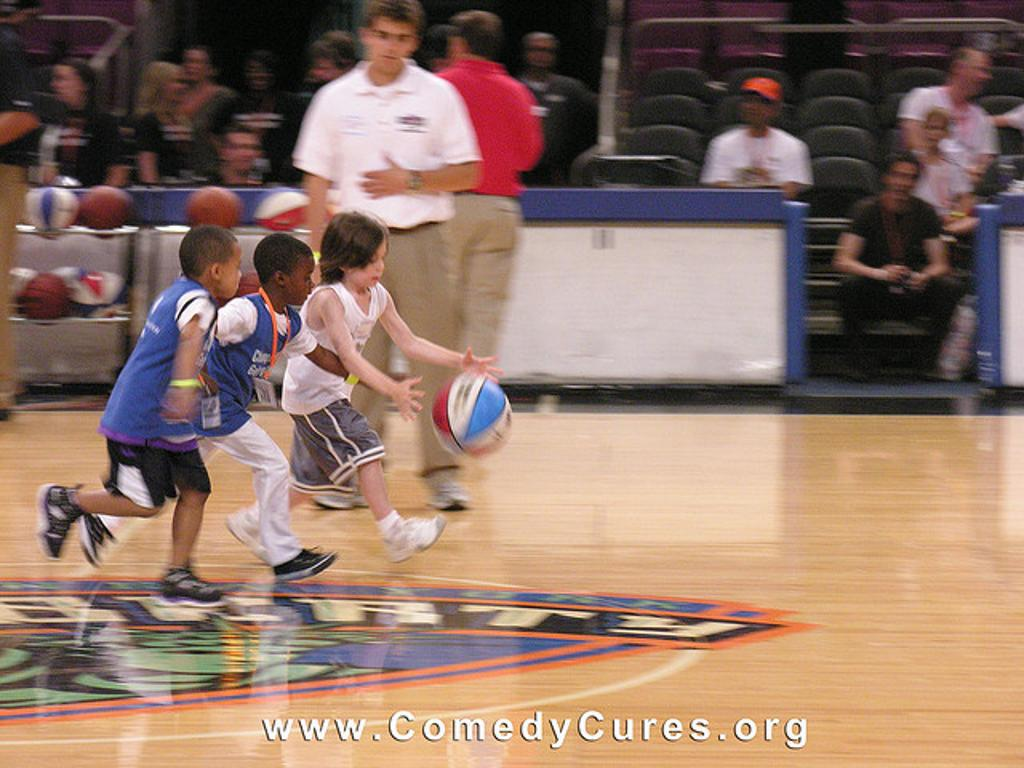face: (368, 23, 412, 69), (350, 241, 385, 288), (279, 263, 314, 306), (211, 251, 243, 298), (962, 53, 989, 94), (310, 56, 338, 95), (444, 36, 472, 75), (226, 134, 257, 169), (53, 66, 81, 103), (745, 87, 775, 121), (160, 66, 187, 102), (889, 165, 917, 199), (527, 37, 556, 68), (249, 61, 276, 90), (185, 52, 208, 80), (927, 118, 947, 145)
